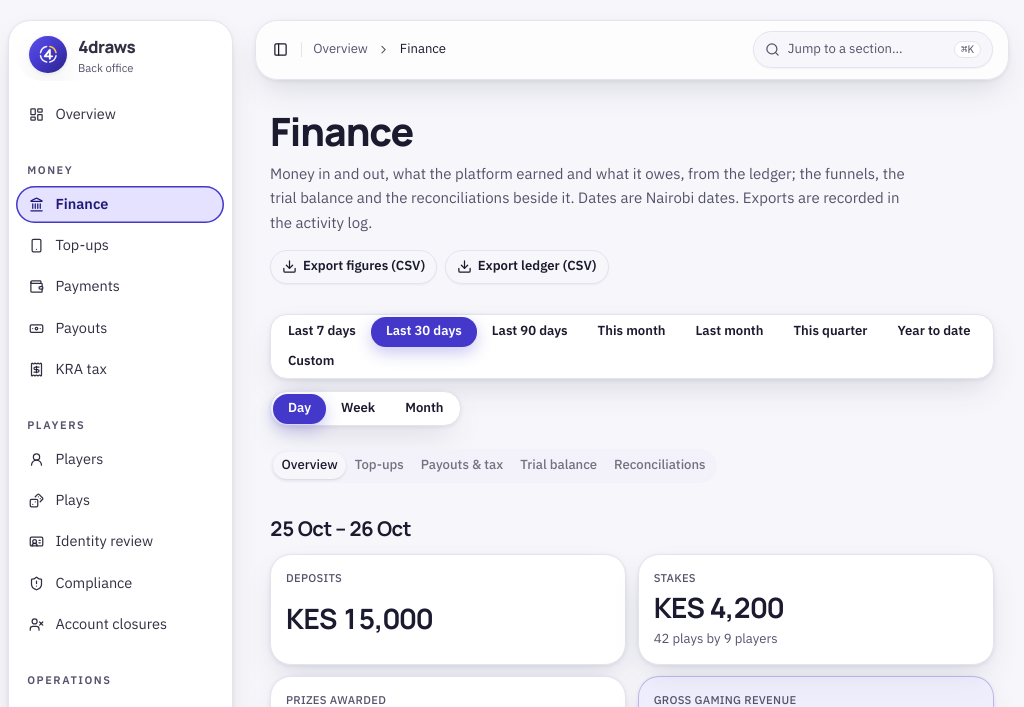
Test: finance › a custom range is asked for only once it runs forward and fits in 366 days
The width and height of the screenshot is (1024, 707).
Expected: the heading "Finance" is shown, top-left (270, 104), bottom-right (413, 158)
Click the button "Custom" at {"x": 311, "y": 362}, box top-left (273, 346), bottom-right (349, 376)
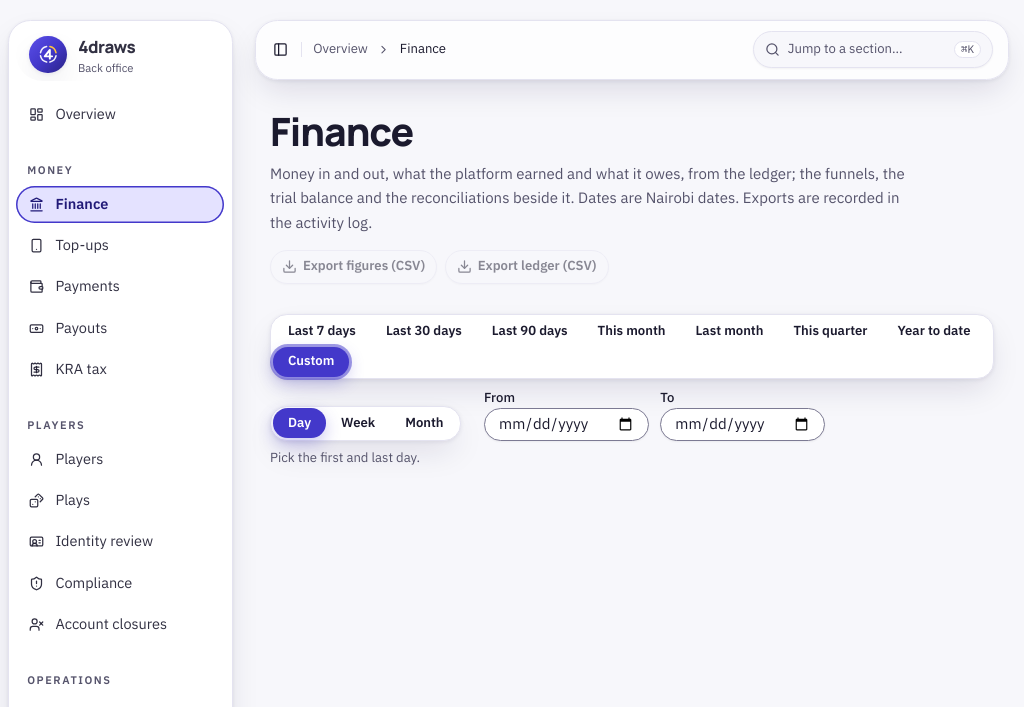
Type "2026-10-20" into the date field labelled "From" at {"x": 566, "y": 424}, box top-left (484, 408), bottom-right (649, 441)
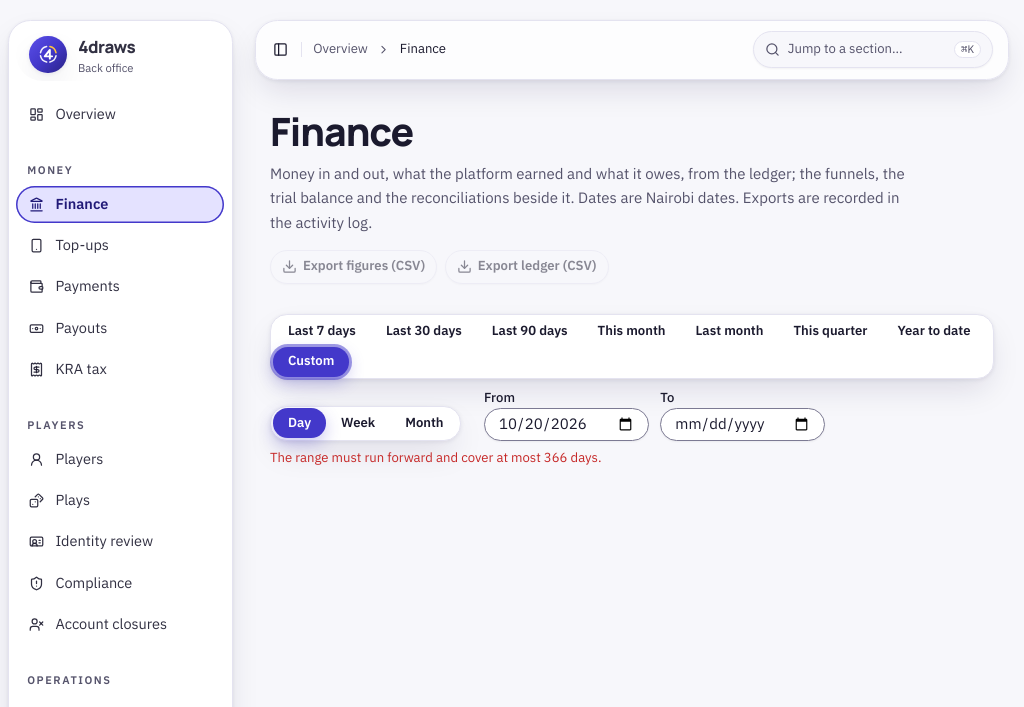
Type "2026-10-10" into the date field labelled "To" at {"x": 743, "y": 424}, box top-left (660, 408), bottom-right (825, 441)
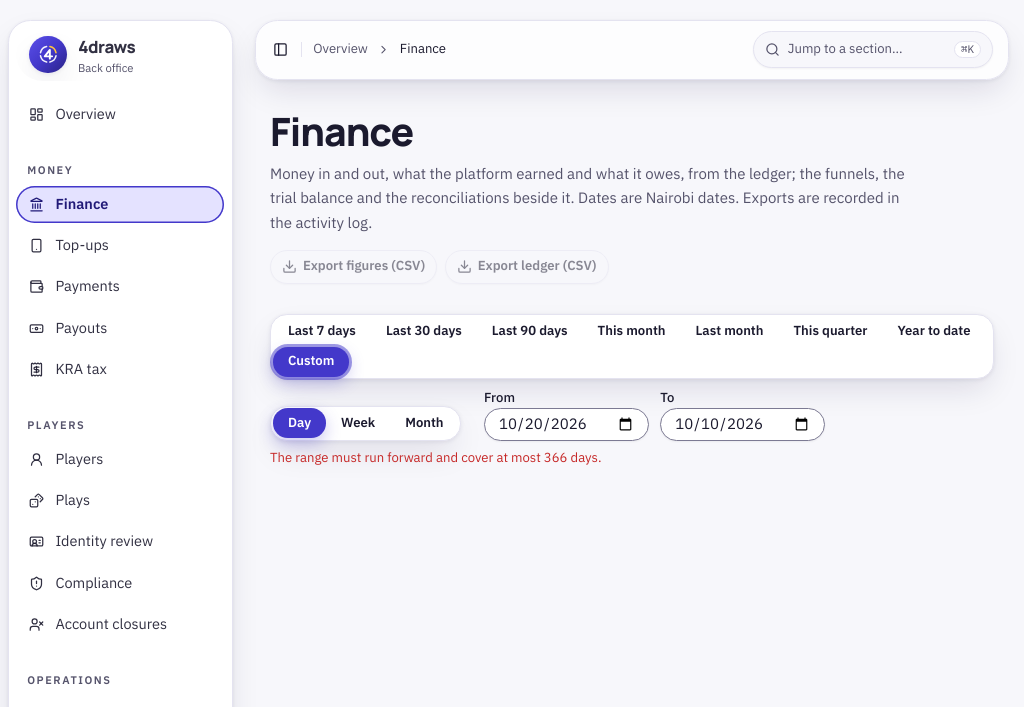
Type "2028-10-10" into the date field labelled "To" at {"x": 743, "y": 424}, box top-left (660, 408), bottom-right (825, 441)
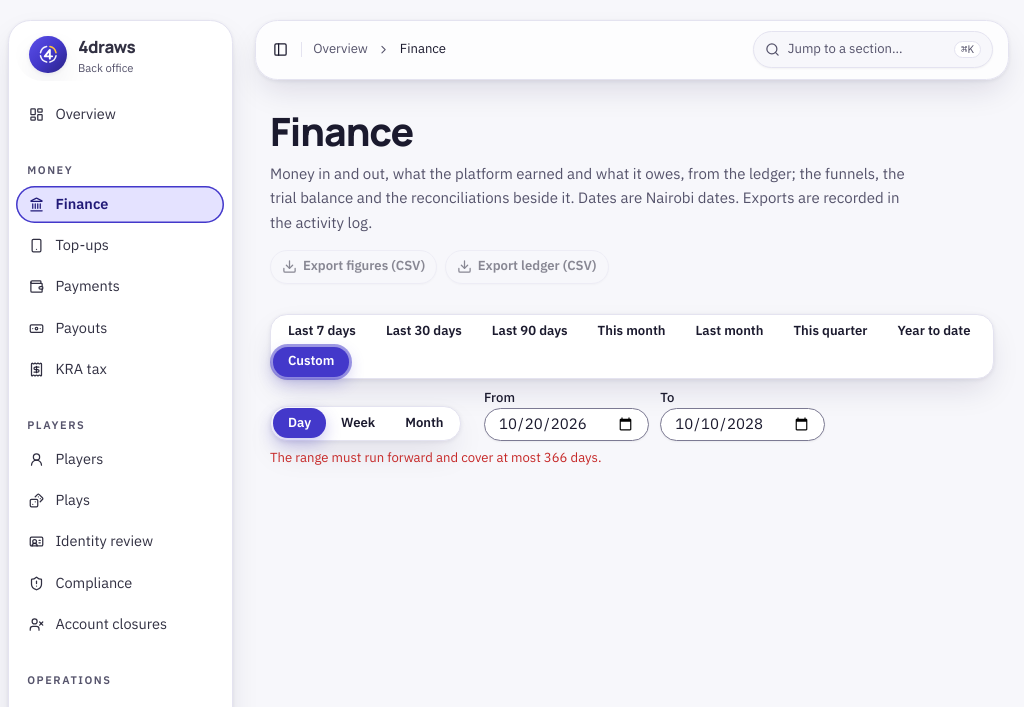
Expected: the text "The range must run forward and cover at most 366 days." is shown, top-left (270, 449), bottom-right (602, 466)
Type "2026-10-25" into the date field labelled "To" at {"x": 743, "y": 424}, box top-left (660, 408), bottom-right (825, 441)
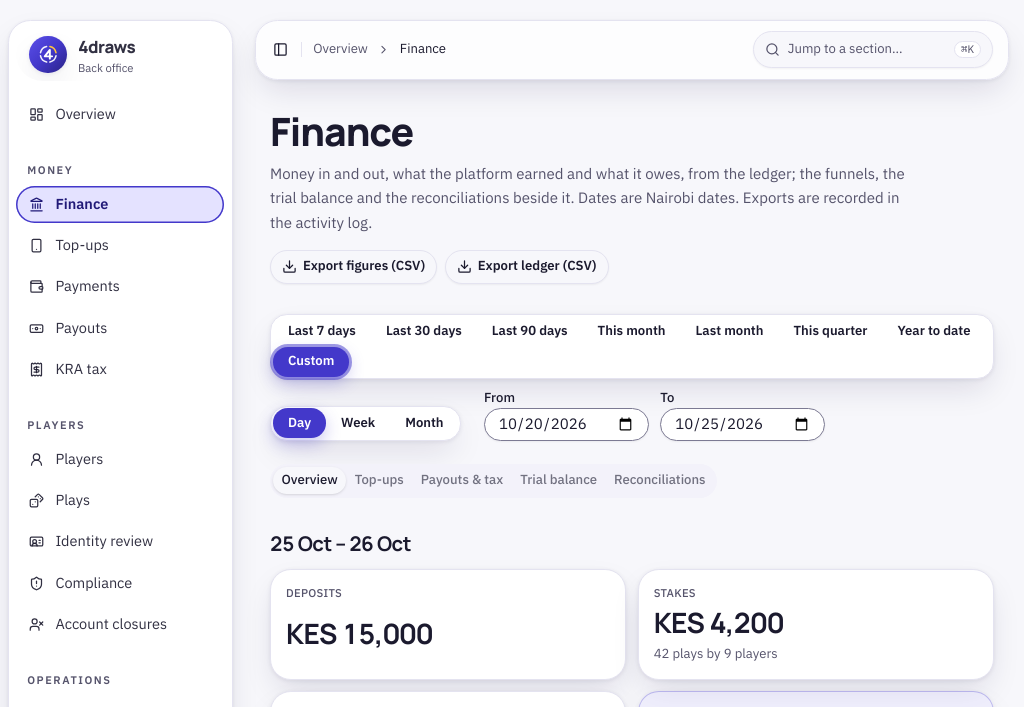
Expected: the text "The range must run forward and cover at most 366 days." is gone
